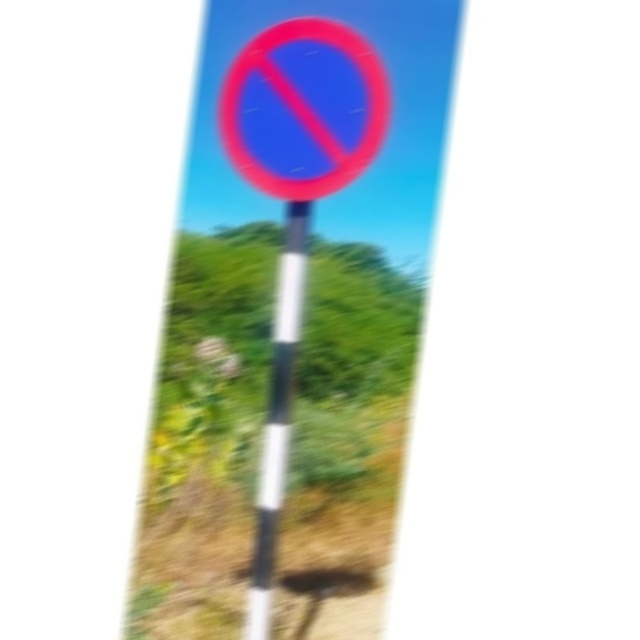No_Stopping_or_Standing: (216, 8, 393, 209)
